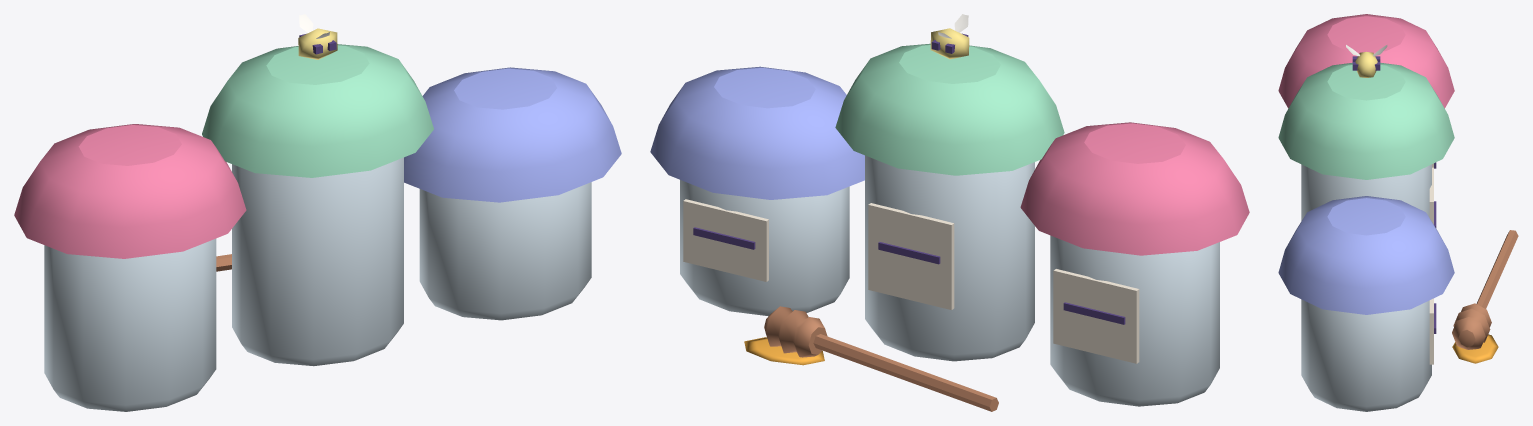
The model's file is honey_jars.glb.
3 views of the same model, side by side, from view 1: azimuth 30°, elevation 25°; view 2: azimuth 150°, elevation 25°; view 3: azimuth 270°, elevation 25° (orthographic). The views are drawn at different scales.
Visible parts, largest first — view 1: honey_jars; view 2: honey_jars; view 3: honey_jars.
Part boxes in pixels (bbox=[...]): honey_jars: bbox=[14, 14, 621, 411]; honey_jars: bbox=[650, 14, 1249, 411]; honey_jars: bbox=[1278, 14, 1518, 411].
Size of what is drawn, in the model's own units: 0.35 by 0.18 by 0.15.
